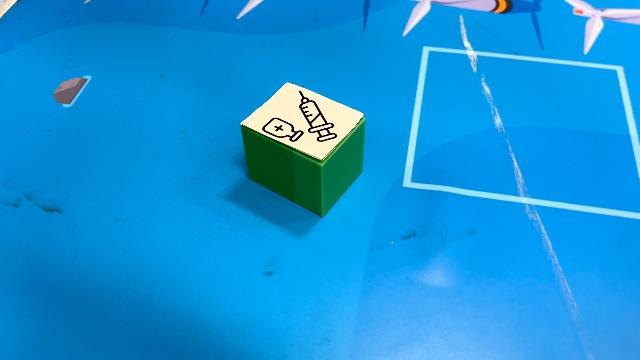syringe: (240, 81, 366, 217)
